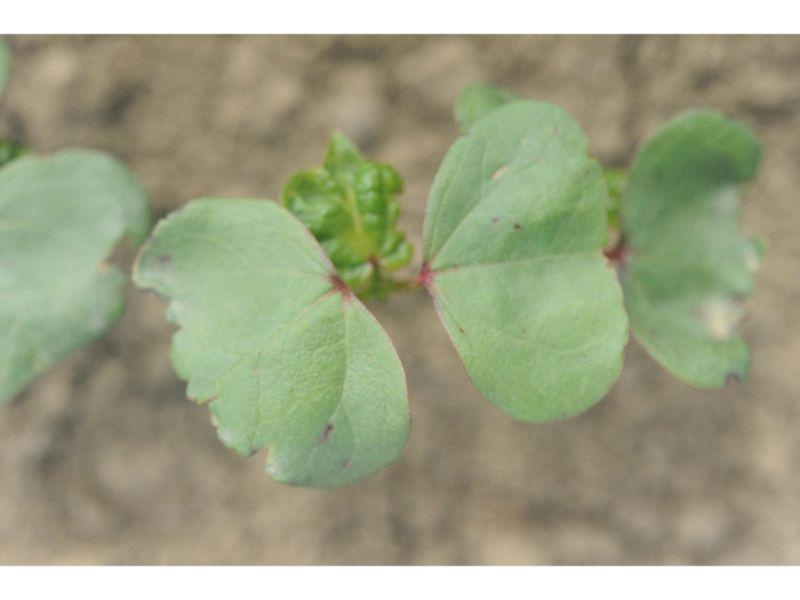cotton: (0, 97, 762, 484)
